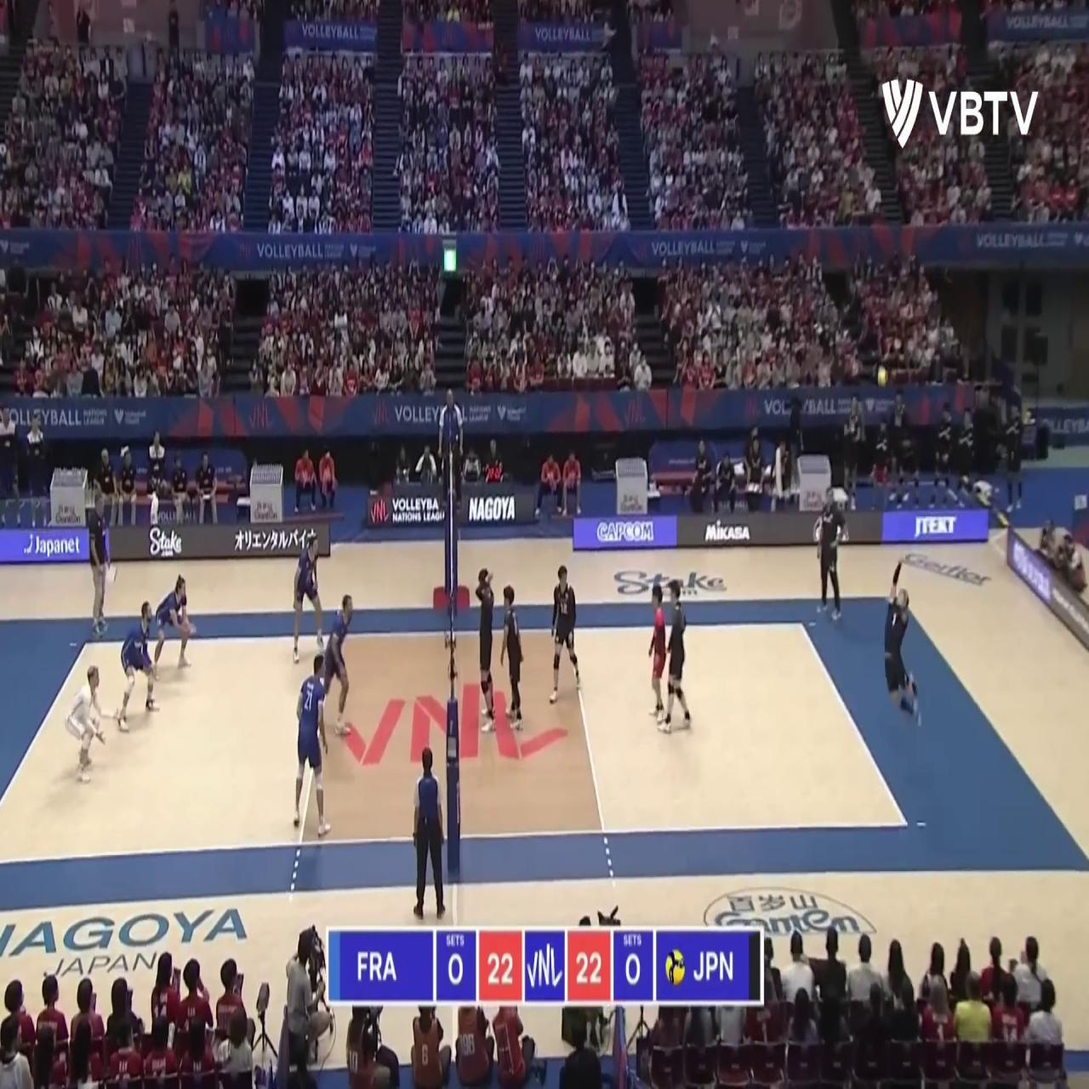ball: (878, 368, 888, 386)
